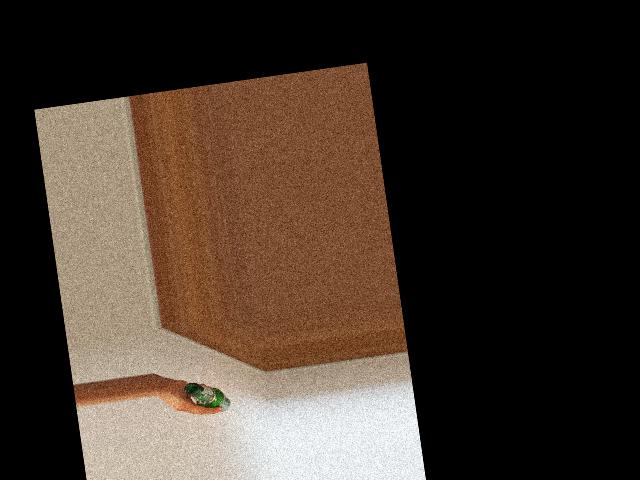beer: (183, 376, 231, 416)
